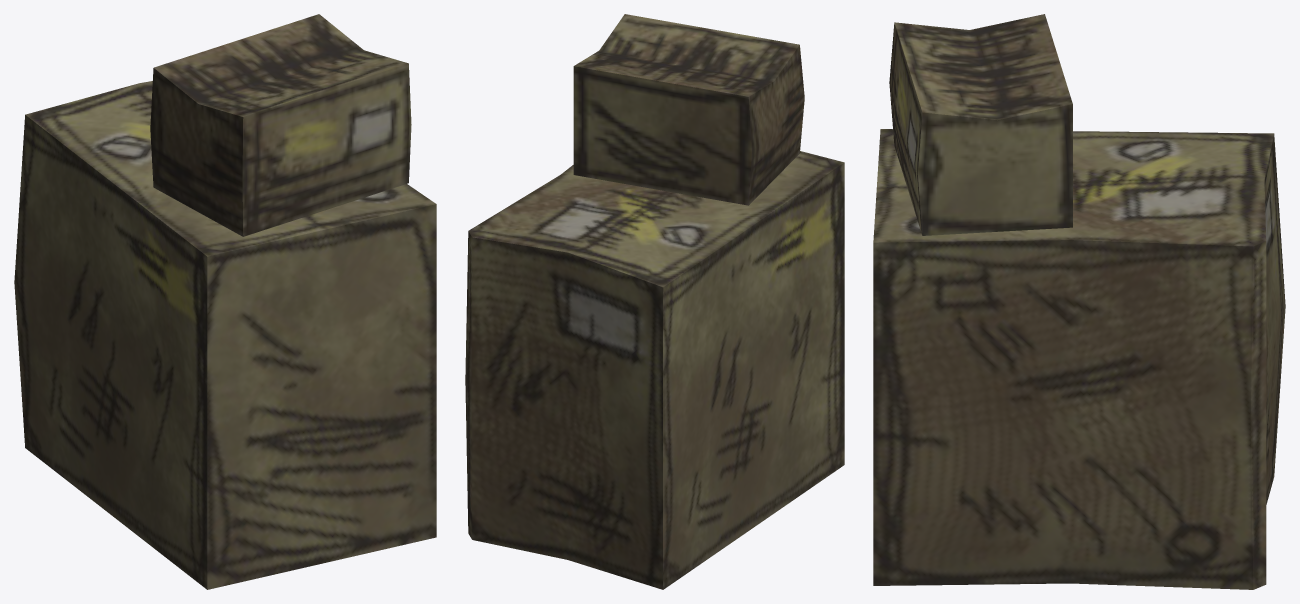
Rendered from boxcardboard5.fbx.
3 renders of one model, left to right at view 1: azimuth 30°, elevation 25°; view 2: azimuth 150°, elevation 25°; view 3: azimuth 270°, elevation 25°, orthographic. The views are drawn at different scales.
Visible parts, largest first — view 1: Boxes.018; view 2: Boxes.018; view 3: Boxes.018.
Part boxes in pixels (box(x1,y1,x2,y2)): Boxes.018: box(14, 14, 436, 589); Boxes.018: box(465, 14, 844, 589); Boxes.018: box(873, 14, 1285, 589).
Bounding box in the file's own units: 37.19 × 68.3 × 54.12.
